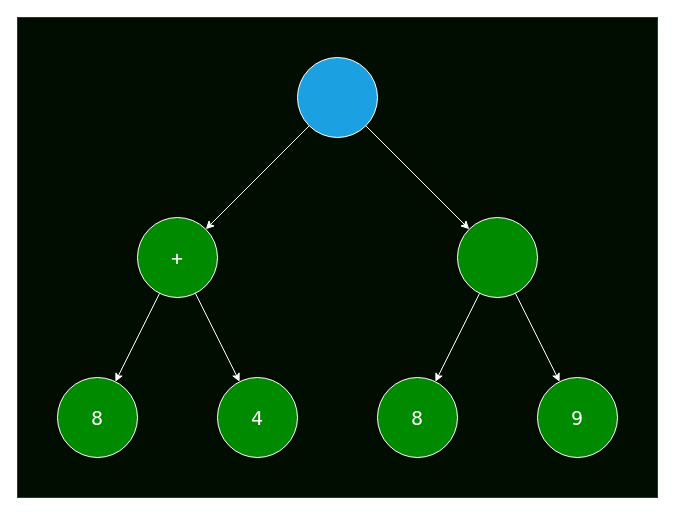
This 675x515 diagram has some shape labels left out. Here are the shapes that lost their labels. From the top down, the centre of each, then its label:
point (337, 97): MAX
point (497, 257): MIN
